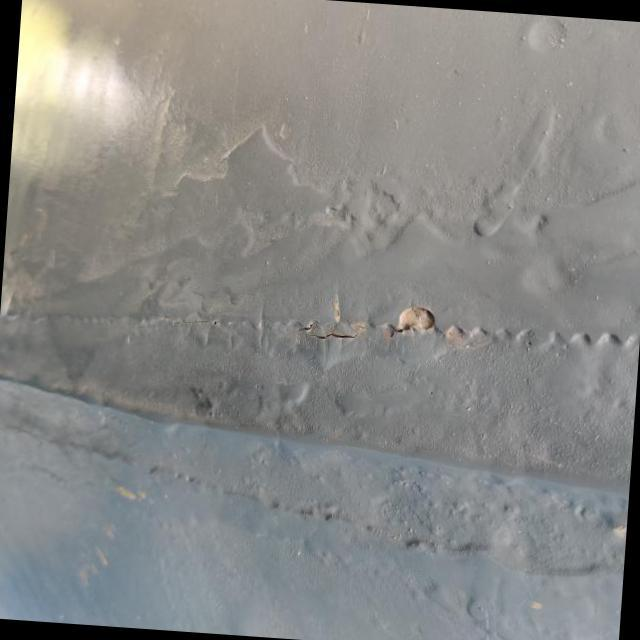Rupture: (271, 290, 460, 360)
